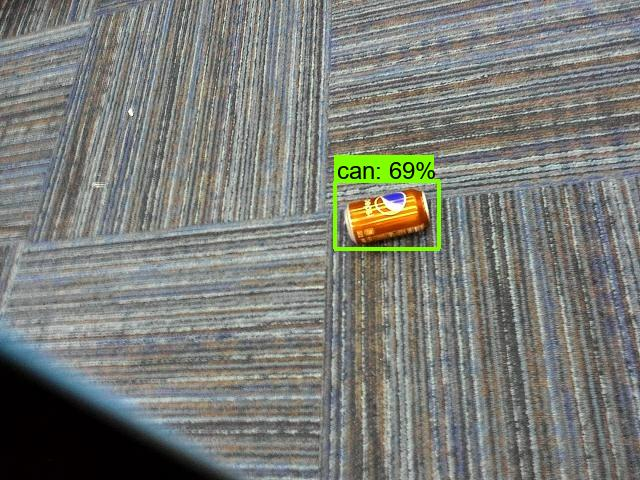can: (328, 183, 440, 251)
